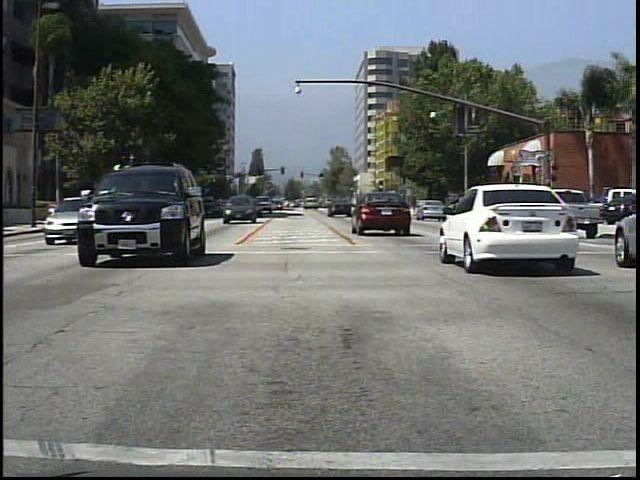person: (545, 191, 564, 228), (500, 188, 518, 224)
